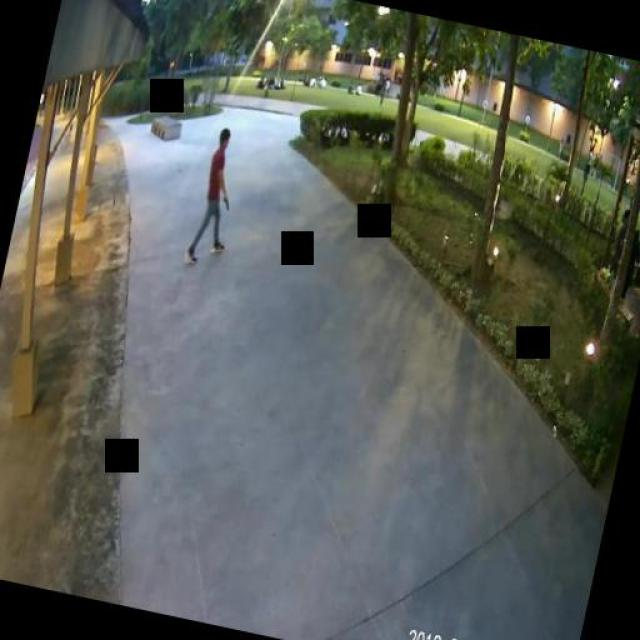gun: (219, 192, 230, 210)
